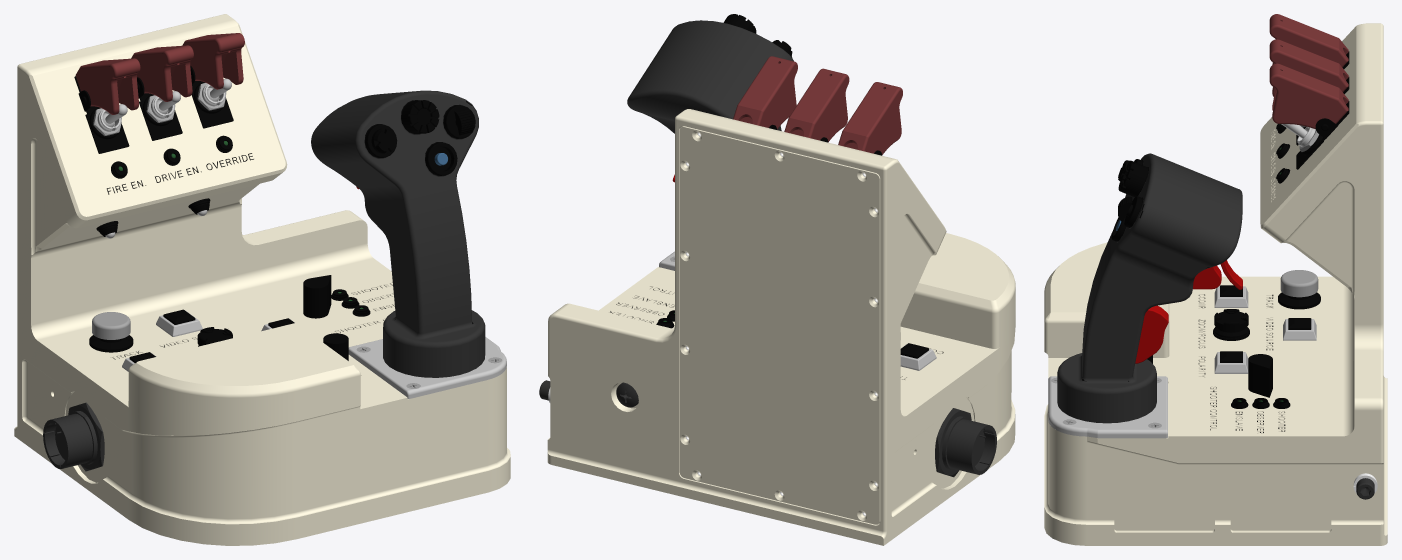
File: joystick.glb
3 renders of one model, left to right at view 1: azimuth 30°, elevation 25°; view 2: azimuth 150°, elevation 25°; view 3: azimuth 270°, elevation 25°, orthographic. The views are drawn at different scales.
Parts seen in each view (by area): view 1: Cut-Extrude68, Joystic_Big_01 - Default_0, Fillet5 (×2), adfsfsaf, Move Face4, Move Face005, Move Face006, Fillet1, Boss-Extrude1_01 - Default_0, Fillet2, Cut-Extrude069, Fillet060 (+1 smaller); view 2: CSK for #4 Flat Head Machine Screw (100)1, Cut-Extrude68, Joystic_Big_01 - Default_0, adfsfsaf, Move Face4, Move Face005, Move Face006, Cut-Extrude070; view 3: Cut-Extrude68, Joystic_Big_01 - Default_0, Move Face006, Fillet5, Move Face4, Move Face005, Fillet1, Fillet2, Boss-Extrude1_01 - Default_0, Cut-Extrude6, Cut-Extrude069, Cut-Extrude070 (+1 smaller).
Boxes of the visible parts, bbox=[...] form: Cut-Extrude68: bbox=[14, 14, 510, 545]; Joystic_Big_01 - Default_0: bbox=[311, 90, 485, 377]; Fillet5 (×2): bbox=[74, 76, 506, 398]; adfsfsaf: bbox=[43, 402, 104, 471]; Move Face4: bbox=[75, 58, 140, 114]; Move Face005: bbox=[131, 45, 193, 101]; Move Face006: bbox=[182, 33, 244, 89]; Fillet1: bbox=[89, 312, 133, 352]; Boss-Extrude1_01 - Default_0: bbox=[303, 275, 331, 318]; Fillet2: bbox=[197, 327, 348, 360]; Cut-Extrude069: bbox=[156, 309, 202, 336]; Fillet060: bbox=[137, 77, 182, 140]; CSK for #4 Flat Head Machine Screw (100)1: bbox=[679, 126, 880, 524]; Cut-Extrude68: bbox=[547, 109, 1015, 545]; Joystic_Big_01 - Default_0: bbox=[627, 14, 793, 182]; adfsfsaf: bbox=[935, 408, 996, 477]; Move Face4: bbox=[838, 82, 902, 154]; Move Face005: bbox=[784, 68, 849, 141]; Move Face006: bbox=[733, 56, 797, 129]; Cut-Extrude070: bbox=[900, 343, 936, 370]; Cut-Extrude68: bbox=[1044, 23, 1387, 545]; Joystic_Big_01 - Default_0: bbox=[1057, 153, 1242, 423]; Move Face006: bbox=[1269, 63, 1348, 129]; Fillet5: bbox=[1048, 376, 1167, 438]; Move Face4: bbox=[1269, 14, 1348, 67]; Move Face005: bbox=[1269, 39, 1348, 96]; Fillet1: bbox=[1278, 270, 1320, 309]; Fillet2: bbox=[1147, 309, 1249, 363]; Boss-Extrude1_01 - Default_0: bbox=[1248, 354, 1272, 397]; Cut-Extrude6: bbox=[1214, 351, 1248, 373]; Cut-Extrude069: bbox=[1283, 318, 1316, 340]; Cut-Extrude070: bbox=[1214, 285, 1248, 307].
Bounding box in the file's own units: 20.16 × 20.51 × 16.27.
Materials: 2 (1 with a texture image).
